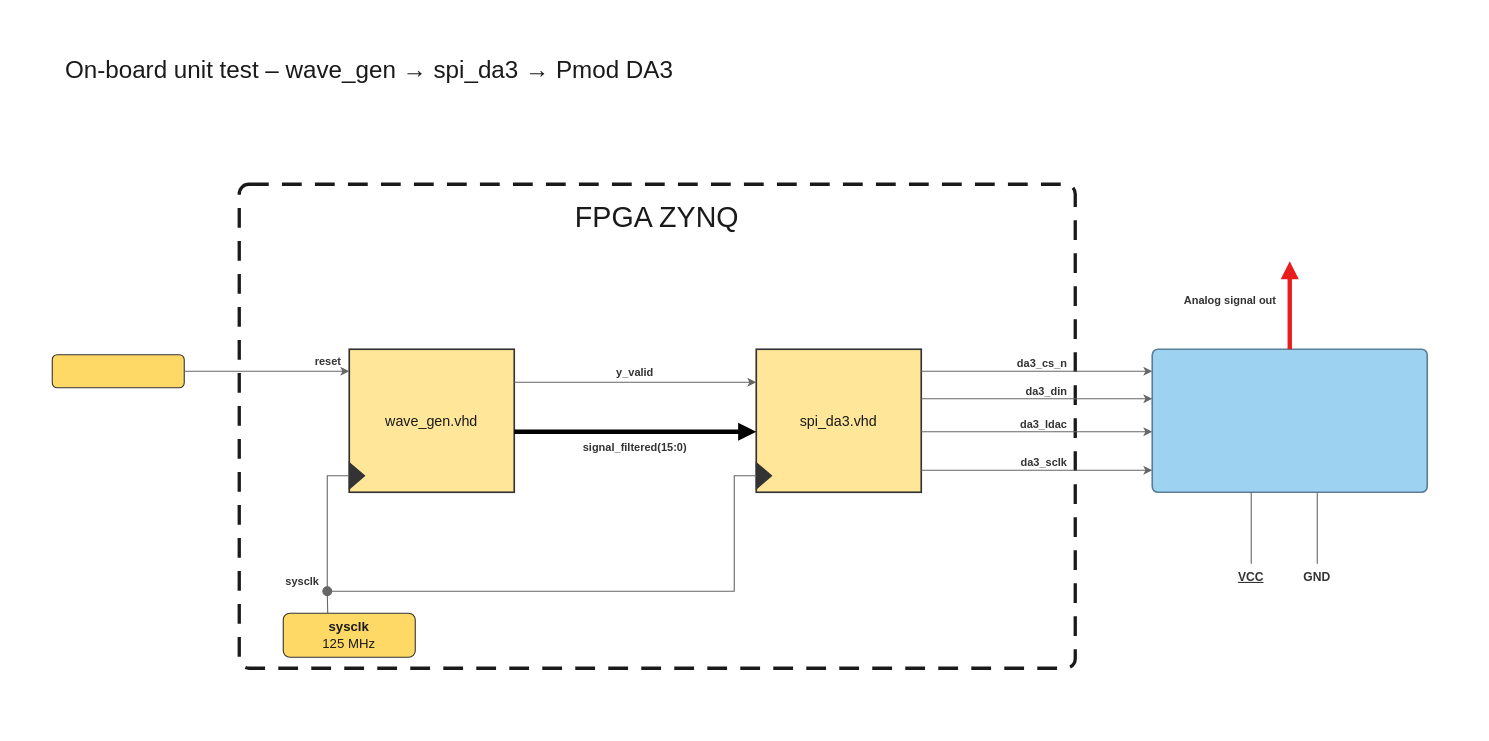
Some shapes in this 1489 by 741 pixel diagram are drawn without their labels. Here are the shapes that lost their labels. From the top down, the centre of each, then its label:
At (117,371): "RESET [SW0]".
At (1289,420): "Digital-to-Analog Converter SMA connector Pmod DA3 One 16-bit D/A output".
